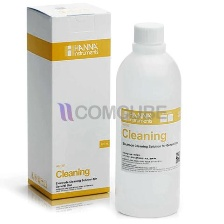book: (22, 1, 114, 206)
cleaning_solution: (111, 17, 183, 219)
